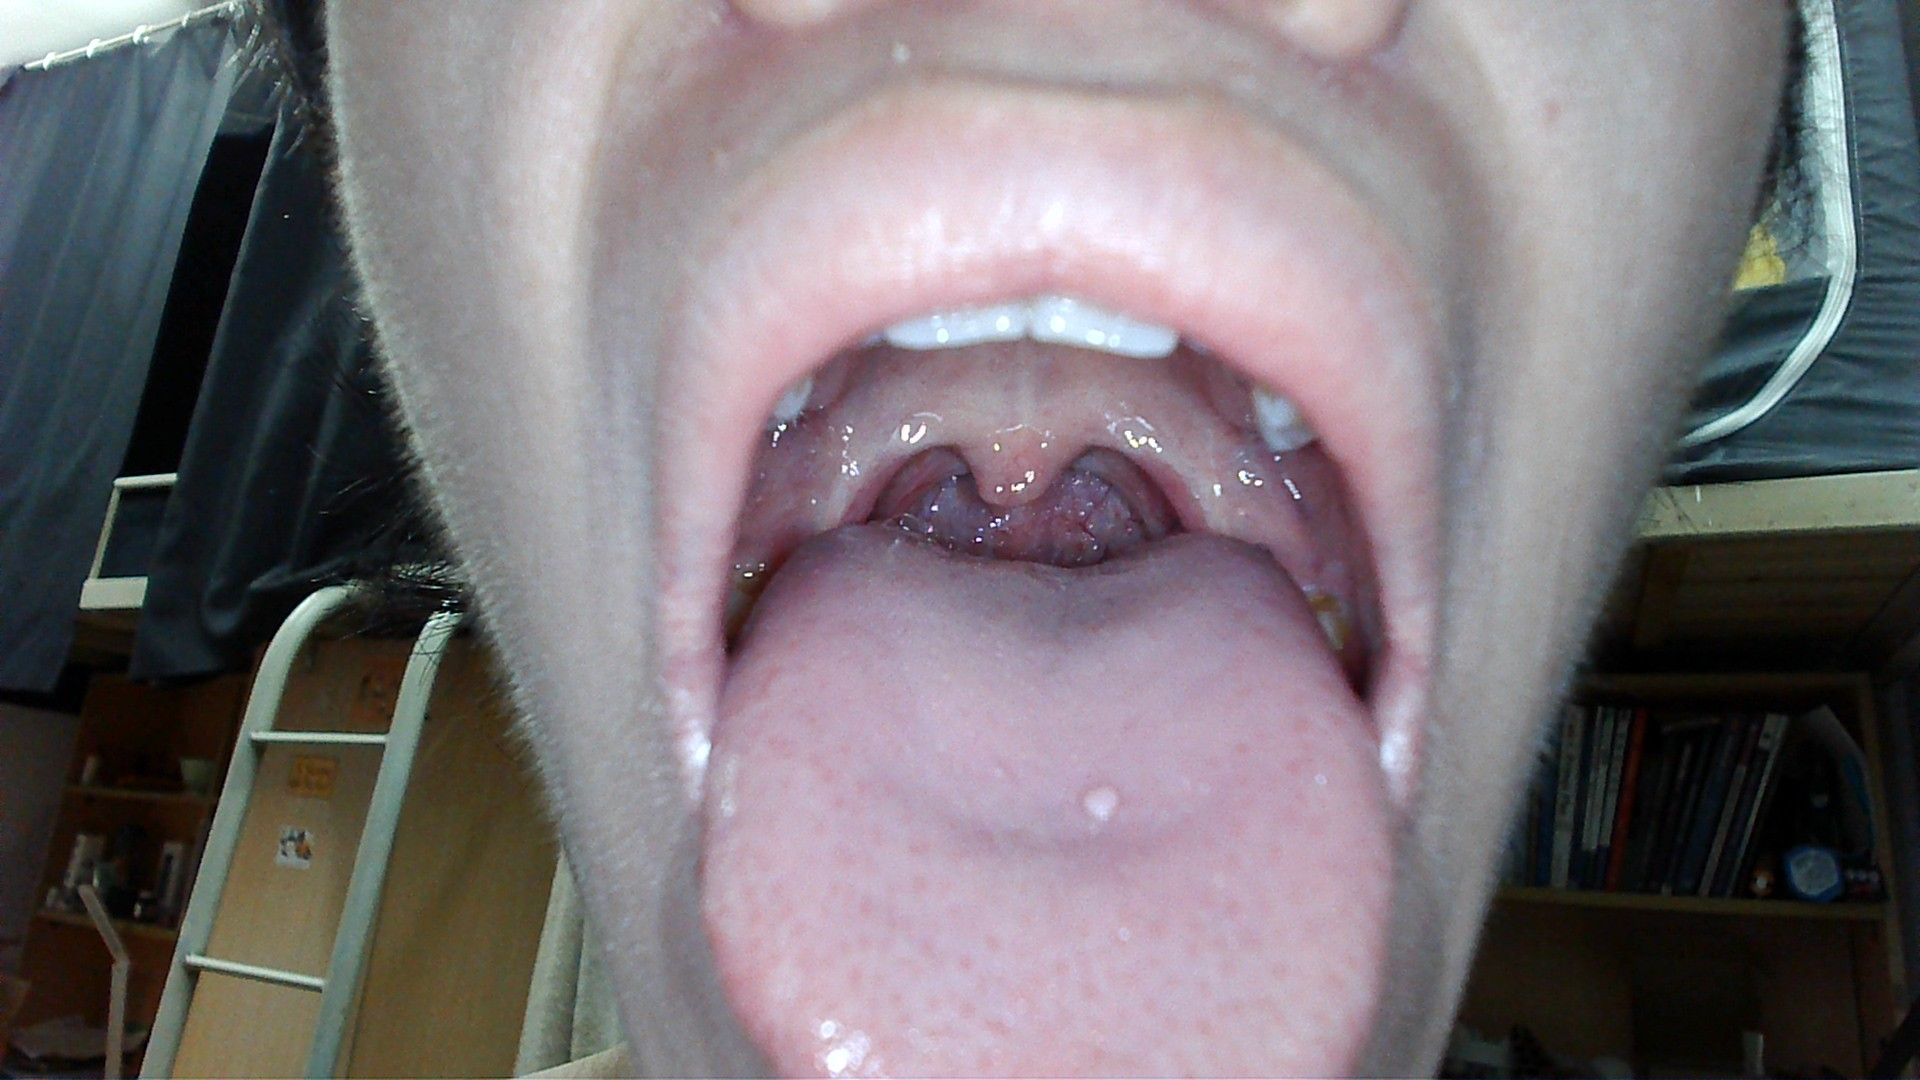throat: (822, 436, 902, 531), (1138, 436, 1218, 531)
